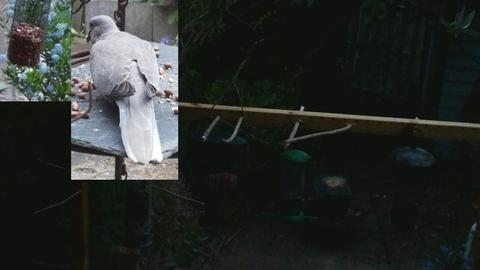collared dove: (86, 15, 163, 165)
